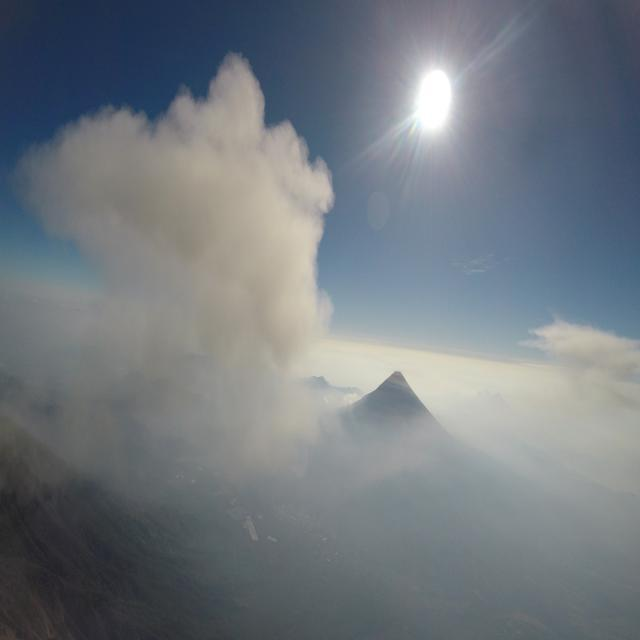Plume: (24, 40, 342, 502)
